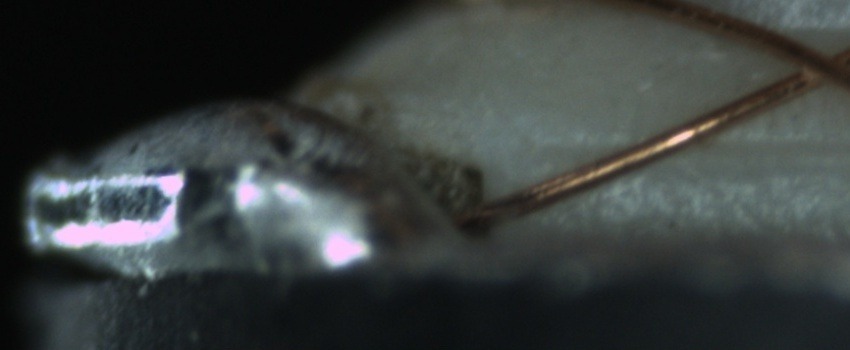CL: (775, 34, 849, 95)
DL: (557, 118, 849, 187)
